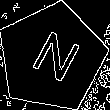N_SW: (22, 26, 82, 89)
